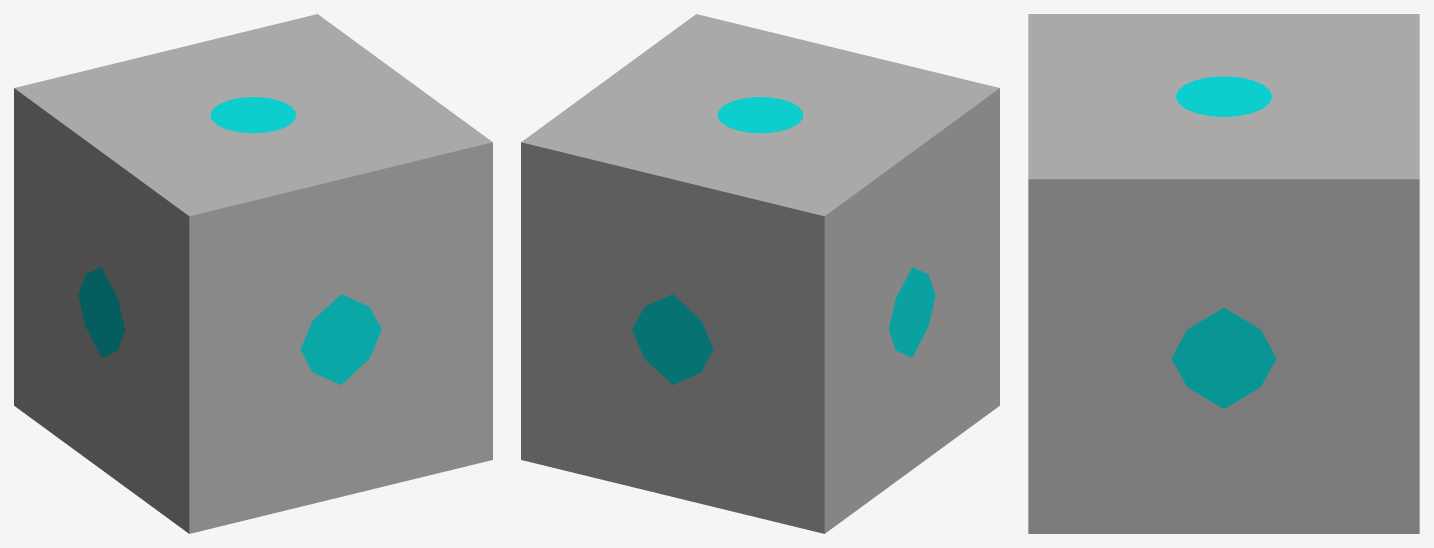
Rendered from Core.fbx.
3 renders of one model, left to right at view 1: azimuth 30°, elevation 25°; view 2: azimuth 150°, elevation 25°; view 3: azimuth 270°, elevation 25°, orthographic. The views are drawn at different scales.
Parts seen in each view (by area): view 1: polySurface3; view 2: polySurface3; view 3: polySurface3.
Part boxes in pixels (x1,y1,x2,y2): polySurface3: (14, 14, 492, 533); polySurface3: (521, 14, 999, 533); polySurface3: (1028, 14, 1419, 533).
Bounding box in the file's own units: 100 × 100 × 100.
